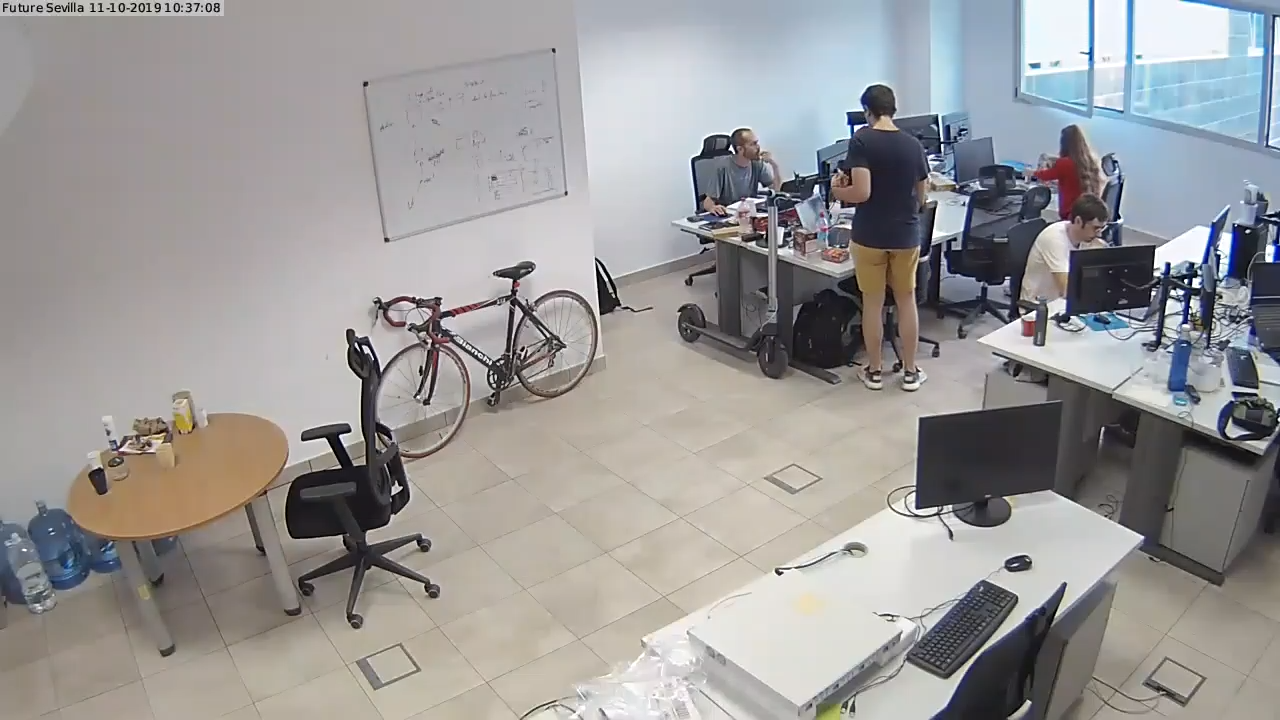head: (1064, 188, 1113, 251), (858, 77, 904, 136), (722, 126, 771, 168), (1054, 118, 1093, 160)
